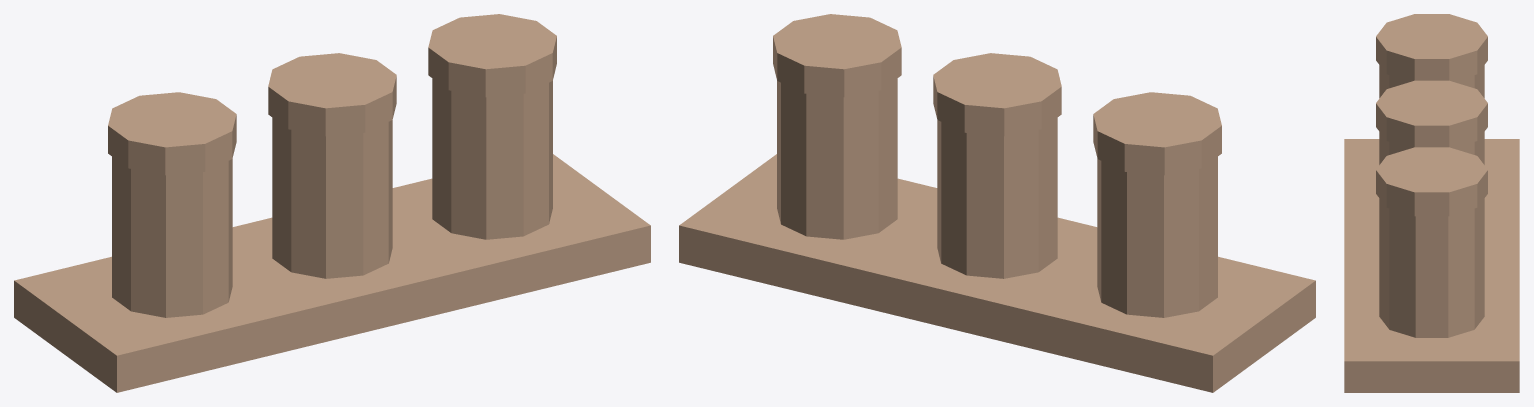
File: sub_temperos.glb
3 renders of one model, left to right at view 1: azimuth 30°, elevation 25°; view 2: azimuth 150°, elevation 25°; view 3: azimuth 270°, elevation 25°, orthographic. The views are drawn at different scales.
Parts seen in each view (by area): view 1: SUB_Temperos_v01; view 2: SUB_Temperos_v01; view 3: SUB_Temperos_v01.
Boxes of the visible parts, x1,y1,x2,y2 form: SUB_Temperos_v01: [14, 14, 650, 392]; SUB_Temperos_v01: [679, 14, 1315, 392]; SUB_Temperos_v01: [1344, 14, 1519, 392].
Size of the model in its own units: 0.3 by 0.1125 by 0.1.
